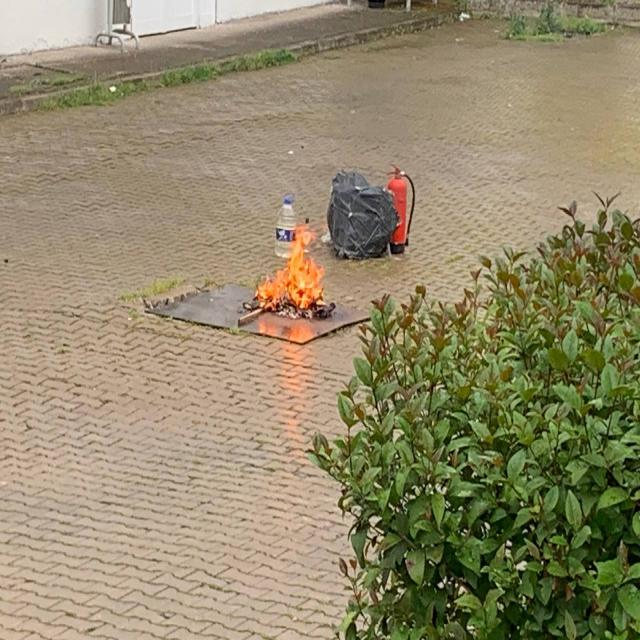fire: (249, 224, 331, 319)
